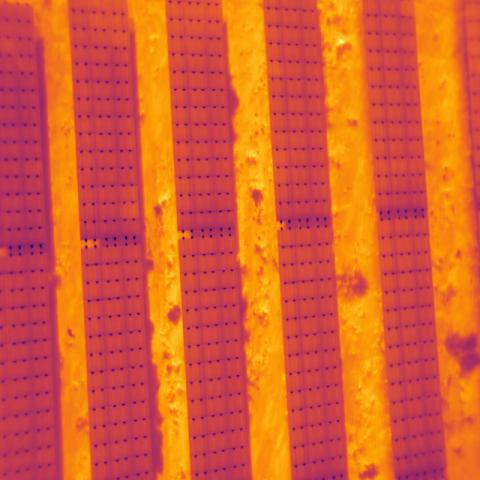fault: (268, 60, 287, 80)
